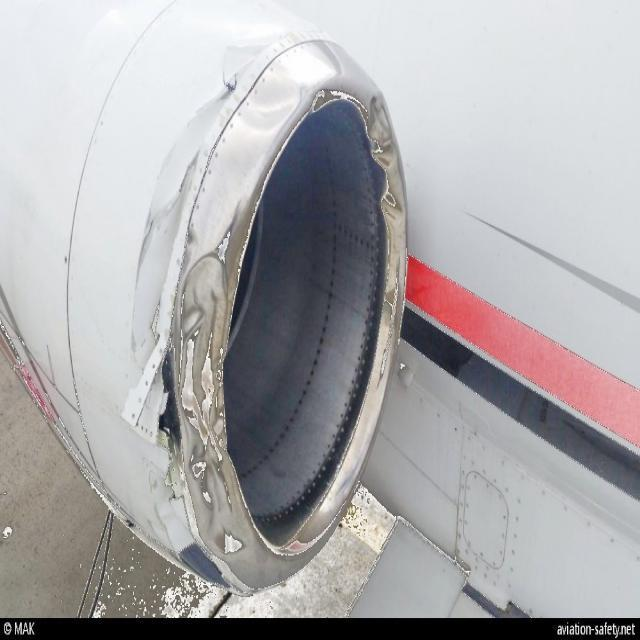dent: (182, 256, 222, 339), (241, 89, 298, 129), (369, 99, 398, 174), (380, 192, 407, 230)
